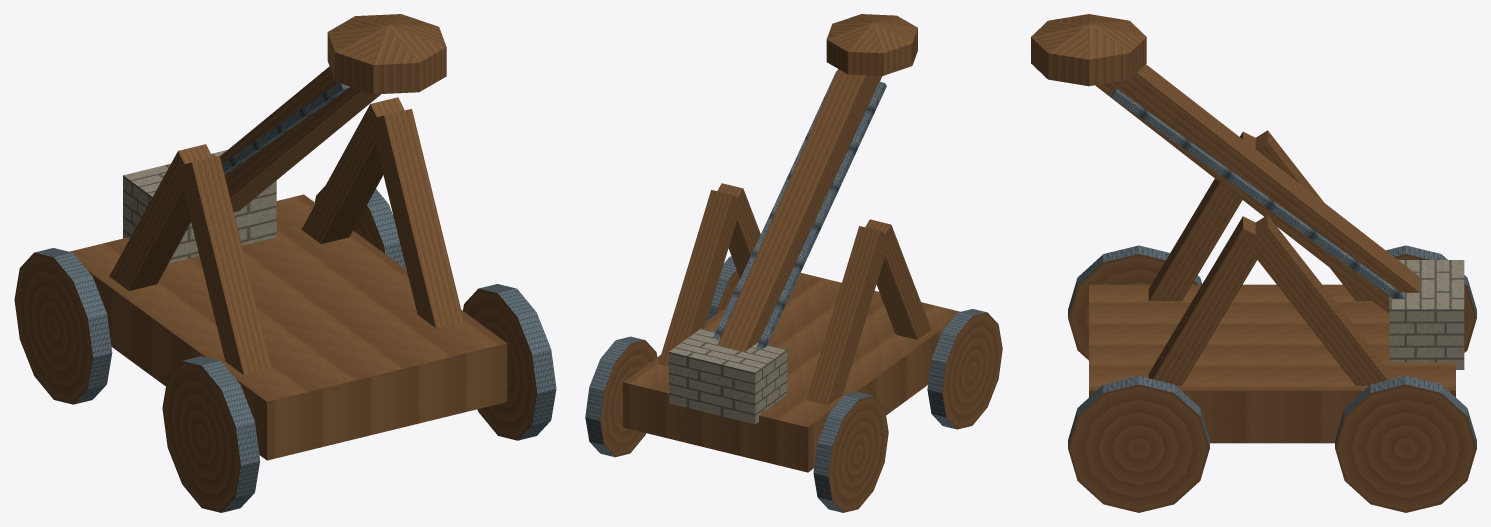
File: unit-CATAPULT-lod0.glb
The picture shows the model from 3 angles, left to right: view 1: azimuth 30°, elevation 25°; view 2: azimuth 150°, elevation 25°; view 3: azimuth 270°, elevation 25°; orthographic projection. The views are drawn at different scales.
Size of the model in its own units: 0.394 by 0.555 by 0.5343.
1 material, 1 textured.
